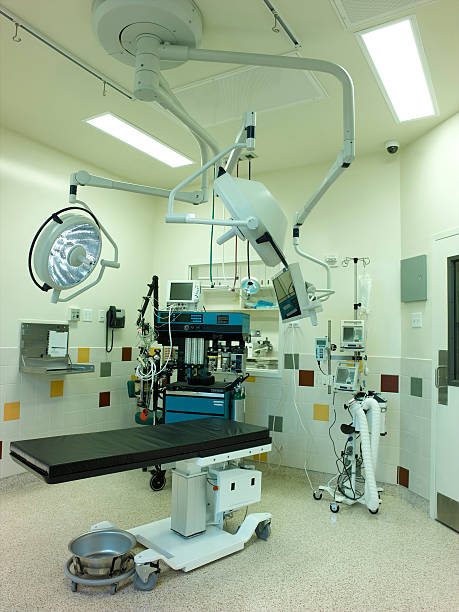bedside_monitor: (270, 262, 315, 325), (169, 281, 193, 301)
infusion_pump: (335, 361, 363, 392), (340, 319, 368, 350)
iv_pole: (341, 256, 371, 319)
operating_bed: (7, 415, 272, 592)
surgical_light: (27, 206, 121, 304), (212, 170, 290, 267)
telephone: (105, 304, 127, 353)
waste_bin: (66, 530, 154, 594)
